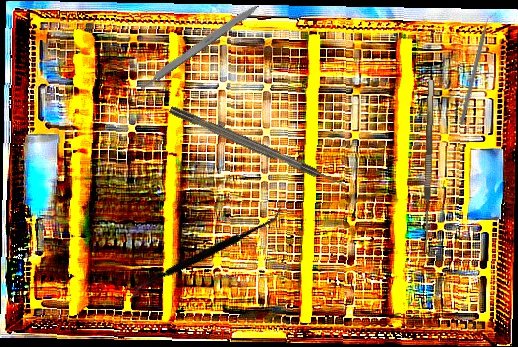Chopper: (459, 10, 498, 127)
Hook Surgical: (168, 104, 348, 191), (421, 79, 444, 257)
Scalpel Handle: (137, 0, 261, 92)
Spatula Surgical: (129, 162, 284, 342)
